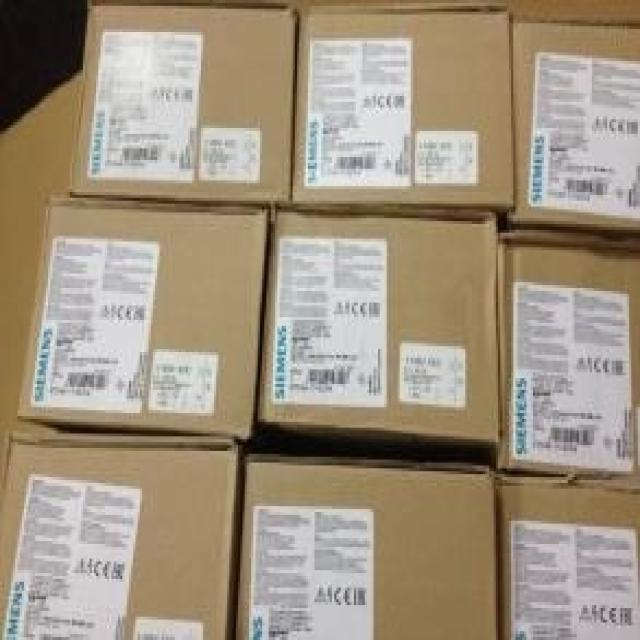box: (15, 195, 271, 442), (256, 207, 500, 442), (0, 428, 245, 640), (232, 451, 498, 640), (70, 6, 299, 207), (291, 3, 513, 209), (496, 230, 640, 483), (509, 15, 640, 233), (496, 474, 640, 640)
